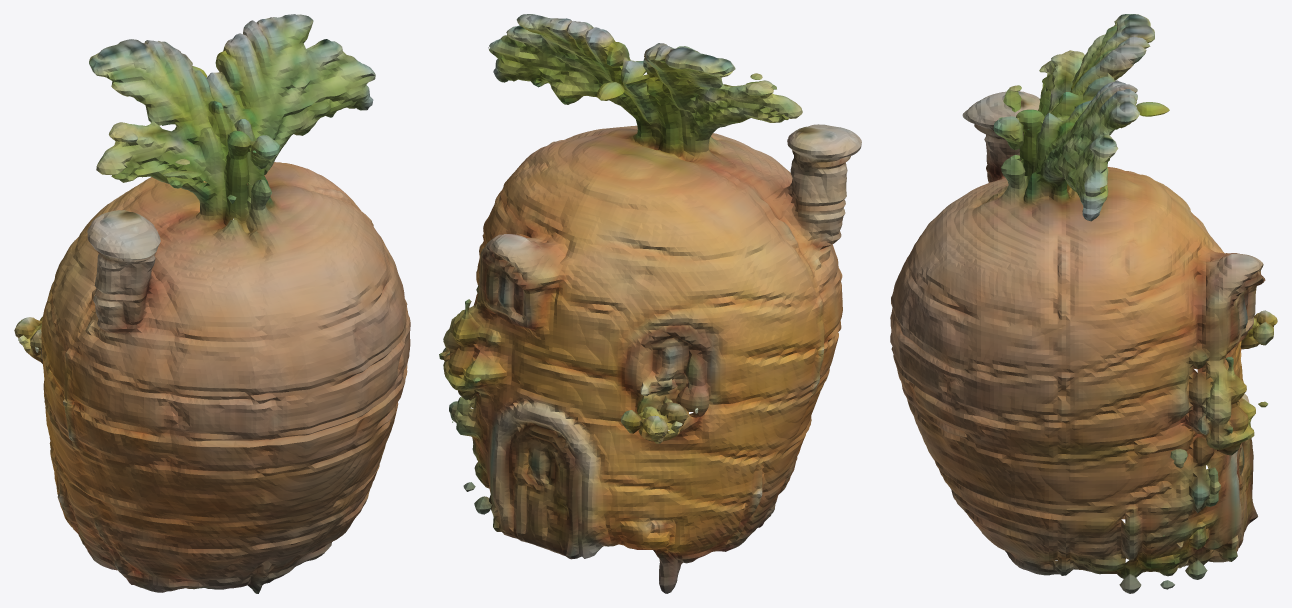
The model's file is carrot_ai.glb.
3 views of the same model, side by side, from view 1: azimuth 30°, elevation 25°; view 2: azimuth 150°, elevation 25°; view 3: azimuth 270°, elevation 25° (orthographic). The views are drawn at different scales.
Visible parts, largest first — view 1: world; view 2: world; view 3: world.
Boxes of the visible parts, <box> form: world: <box>14,14,410,593</box>; world: <box>439,14,861,593</box>; world: <box>890,14,1277,593</box>.
Size of the model in its own units: 0.5899 by 0.9055 by 0.6231.
